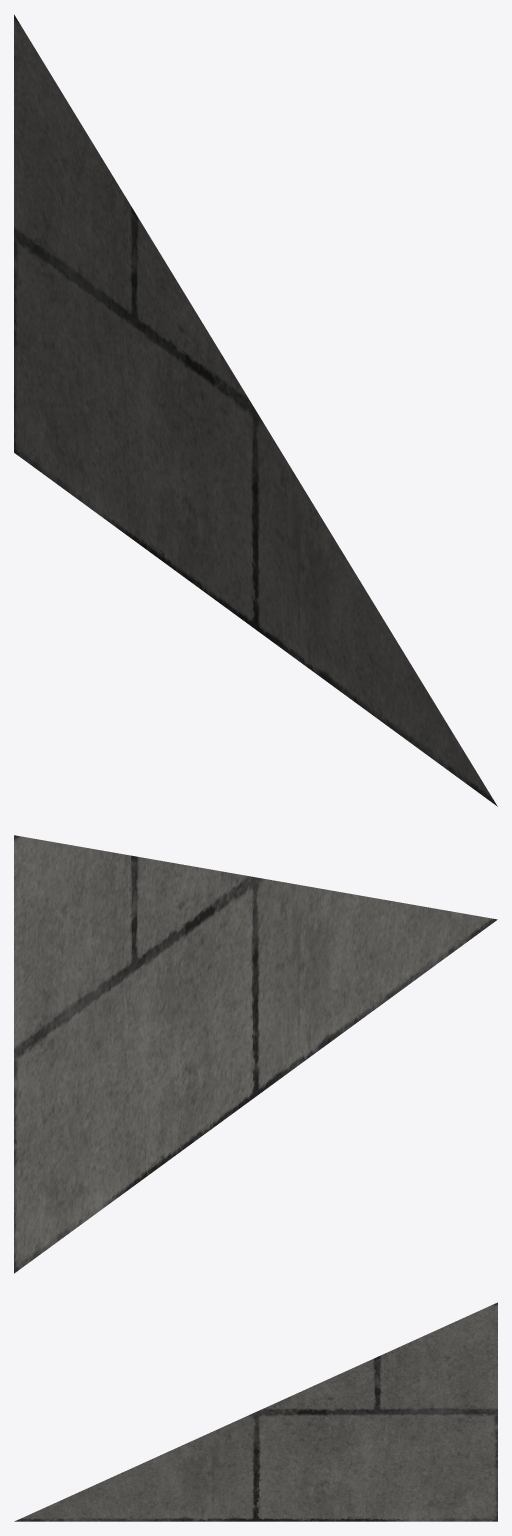
File: SM_StairWall_02.fbx
The picture shows the model from 3 angles, top to bottom: view 1: azimuth 30°, elevation 25°; view 2: azimuth 150°, elevation 25°; view 3: azimuth 270°, elevation 25°; orthographic projection. The views are drawn at different scales.
Parts seen in each view (by area): view 1: SM_StairWall_02_LOD0; view 2: SM_StairWall_02_LOD0; view 3: SM_StairWall_02_LOD0.
Part boxes in pixels (box(x1,y1,x2,y2)): SM_StairWall_02_LOD0: box(14, 14, 497, 806); SM_StairWall_02_LOD0: box(14, 835, 497, 1273); SM_StairWall_02_LOD0: box(14, 1302, 497, 1521).
Size of the model in its own units: 0.000133 by 200 by 100.
